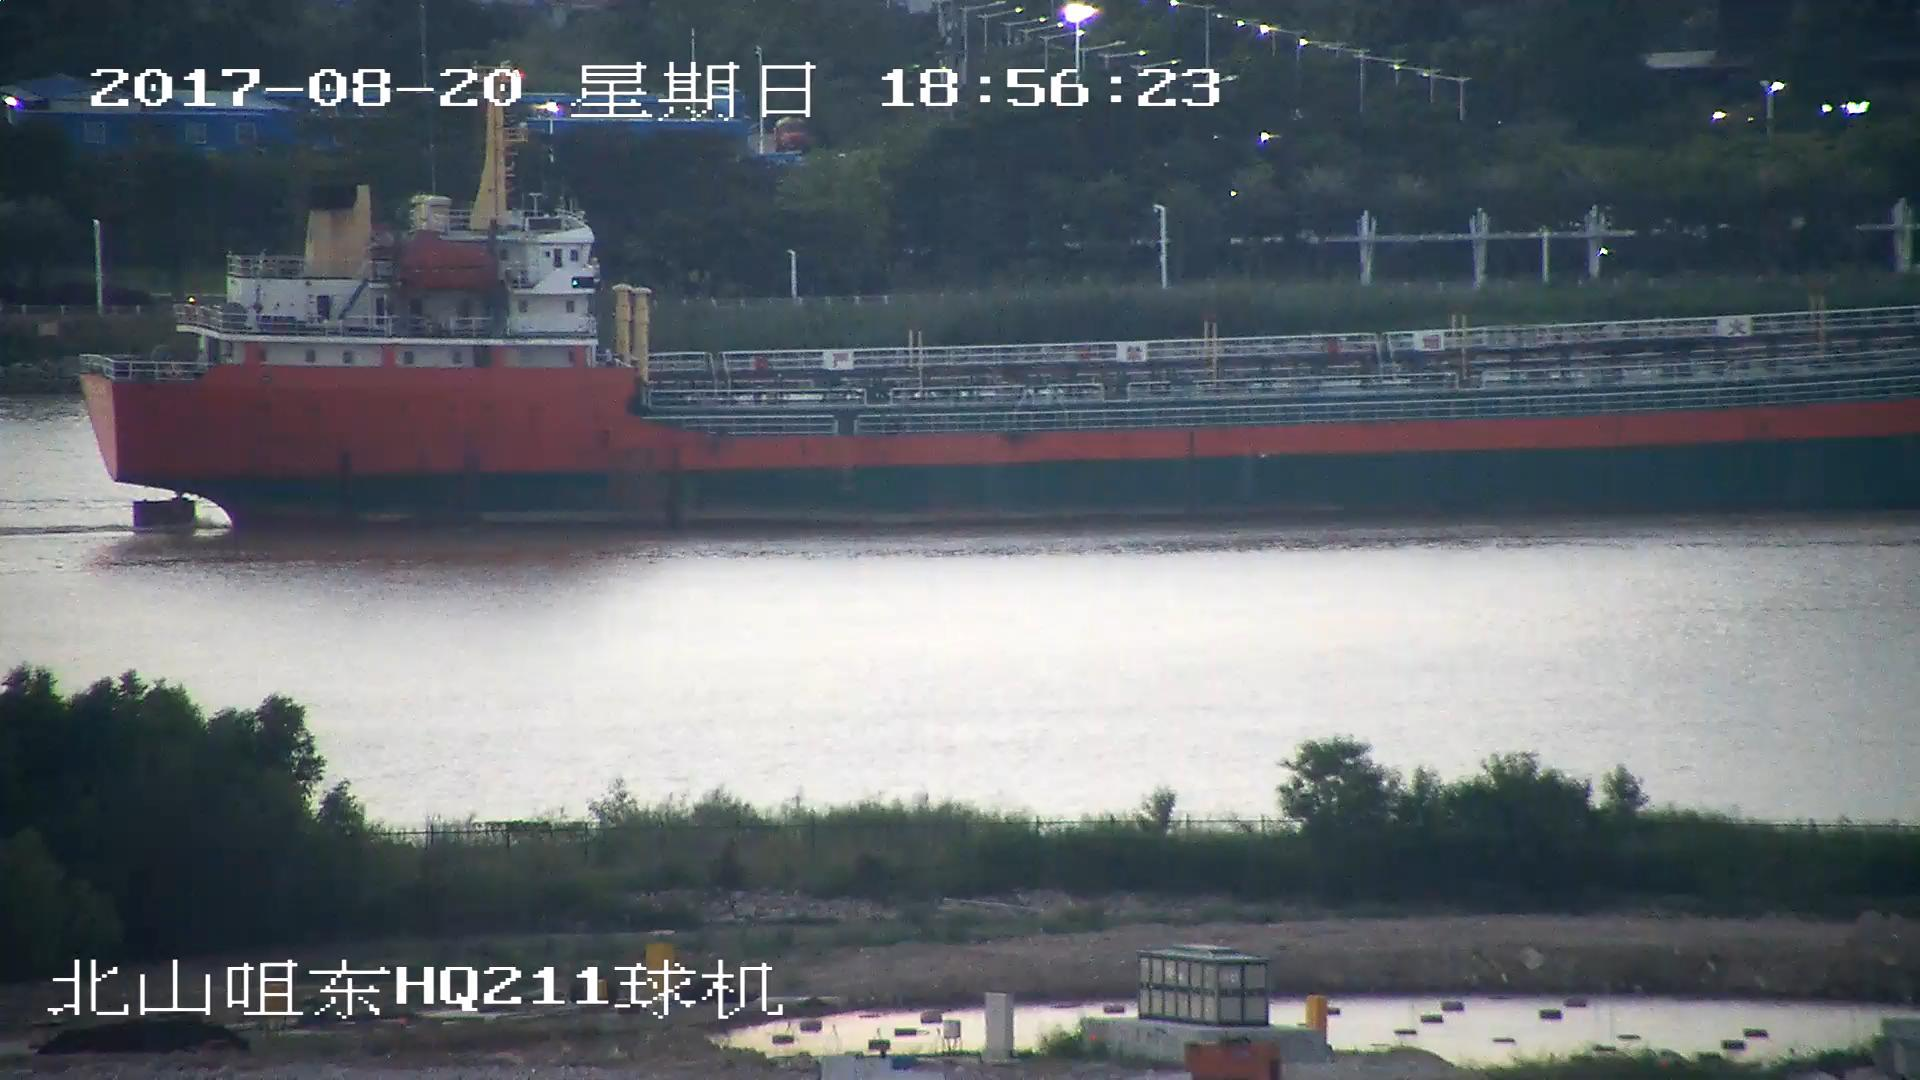Ship: (66, 113, 1920, 533)
